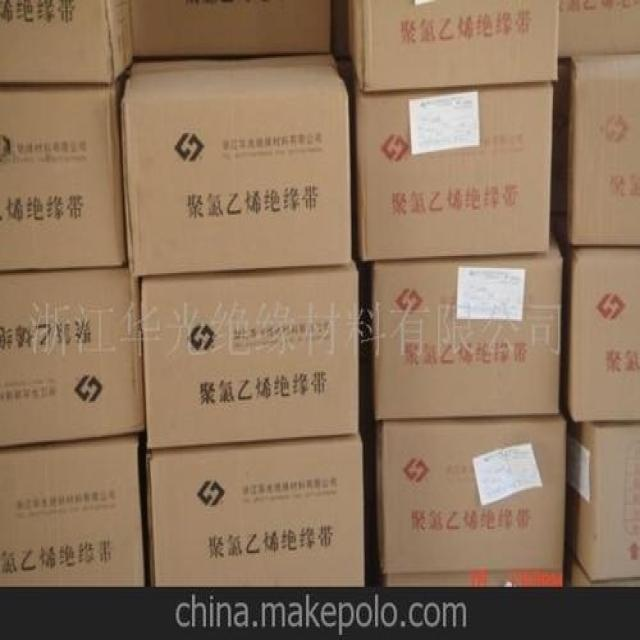box: (121, 53, 353, 277), (139, 262, 359, 448), (355, 75, 554, 261), (372, 235, 563, 420), (145, 434, 365, 587), (376, 414, 567, 574), (0, 266, 145, 448), (1, 69, 129, 272), (0, 434, 144, 587), (567, 53, 639, 244), (564, 246, 639, 422), (565, 420, 639, 581), (130, 0, 331, 56), (0, 0, 133, 83), (559, 1, 639, 57)
